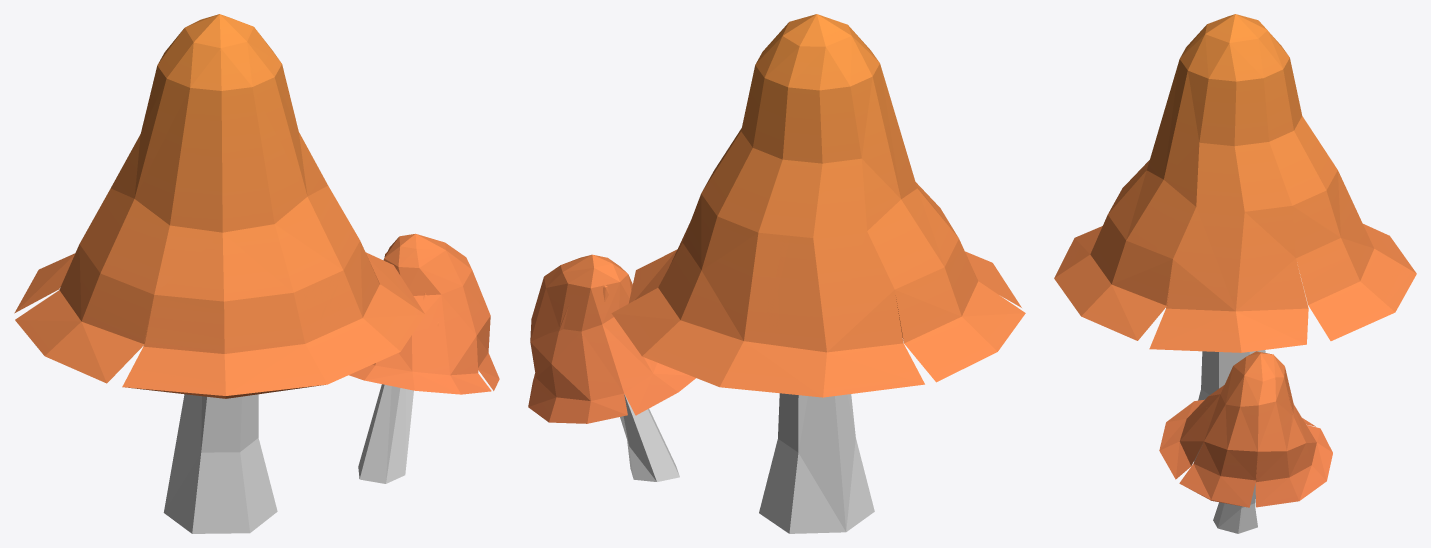
The model's file is Mushroom_05.fbx.
3 views of the same model, side by side, from view 1: azimuth 30°, elevation 25°; view 2: azimuth 150°, elevation 25°; view 3: azimuth 270°, elevation 25° (orthographic). The views are drawn at different scales.
Visible parts, largest first — view 1: Mushroom_05; view 2: Mushroom_05; view 3: Mushroom_05.
Boxes of the visible parts, x1,y1,x2,y2 form: Mushroom_05: (14,14,499,533); Mushroom_05: (528,14,1025,533); Mushroom_05: (1054,14,1416,533).
Size of the model in its own units: 0.4935 by 0.5194 by 0.388.
